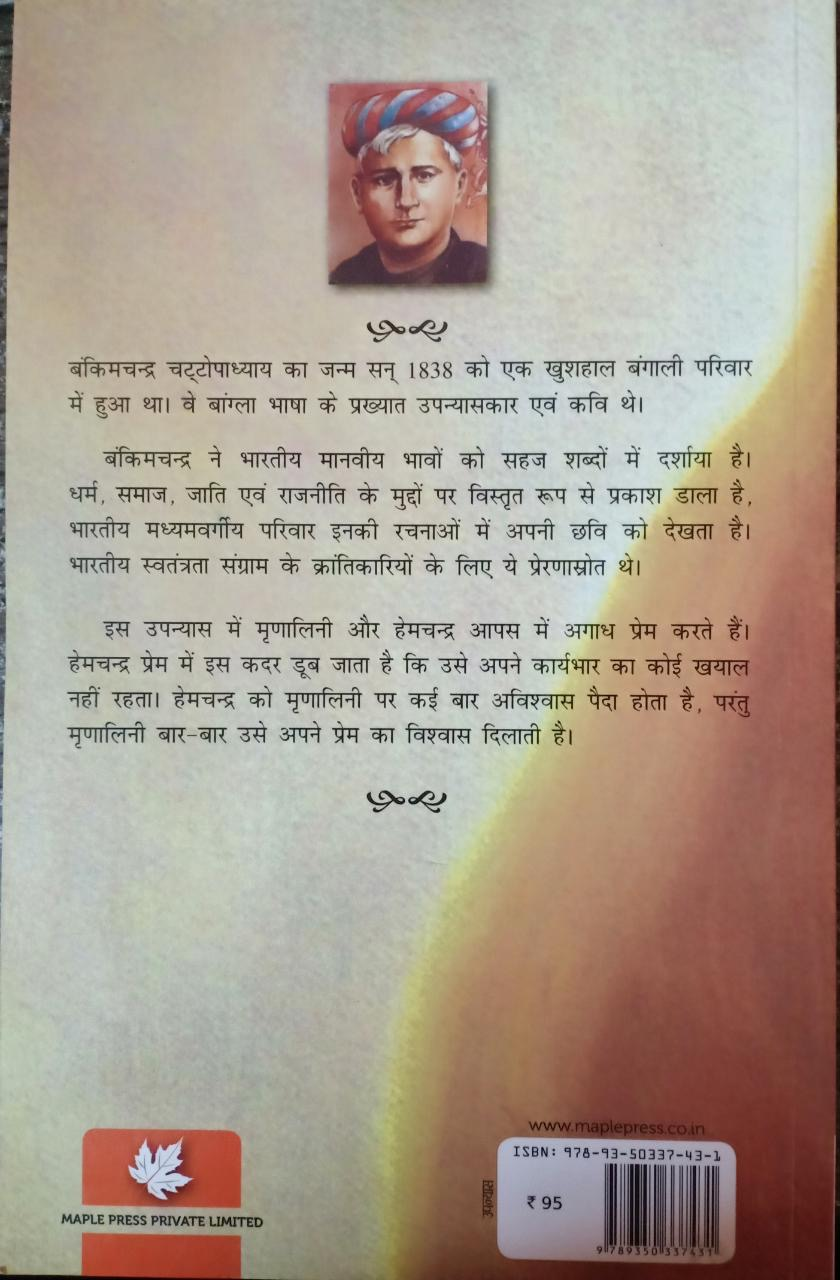barcode: (588, 1160, 731, 1275)
